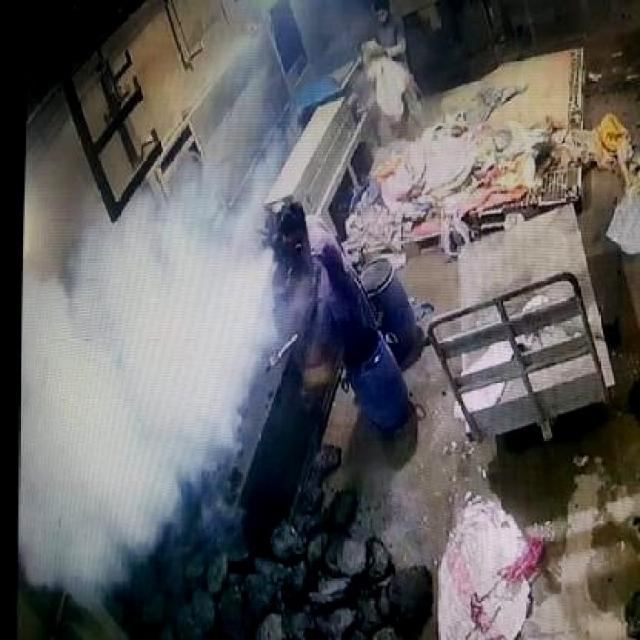smoke: (25, 203, 253, 532)
